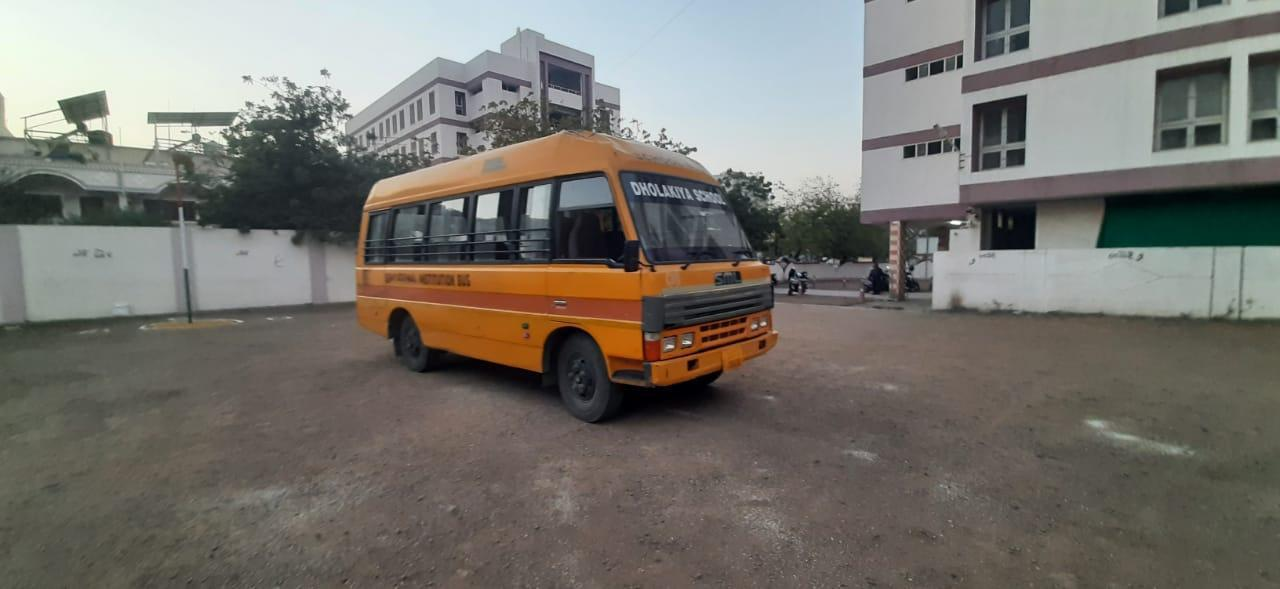Bus: (345, 123, 794, 437)
